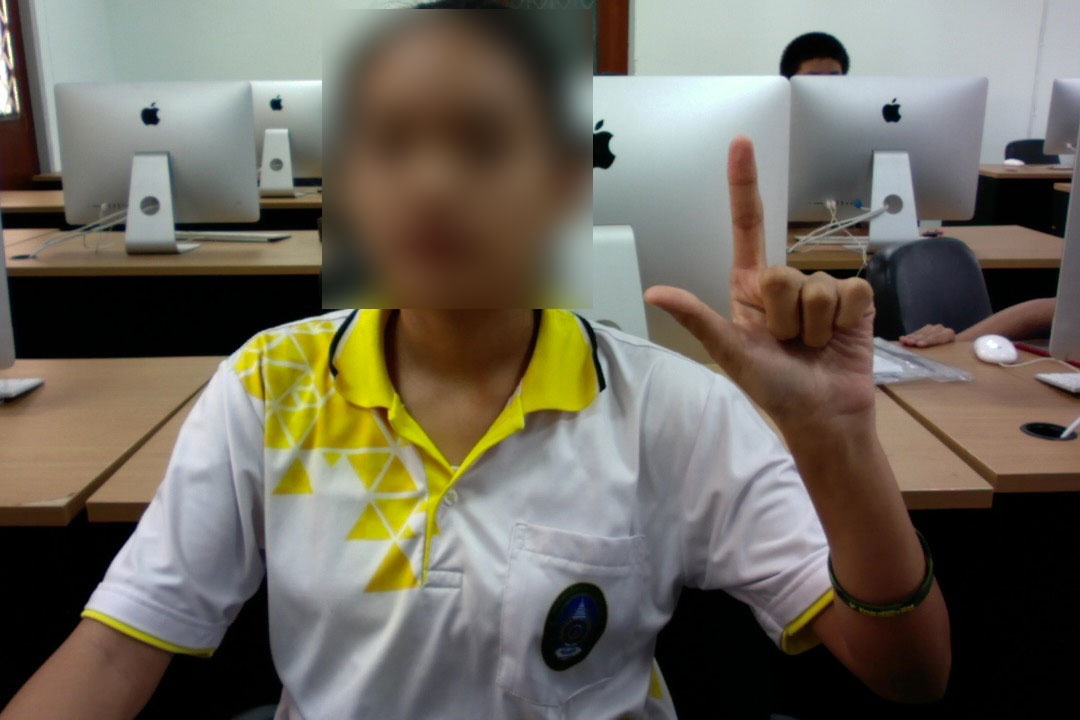lor: (632, 132, 905, 460)
